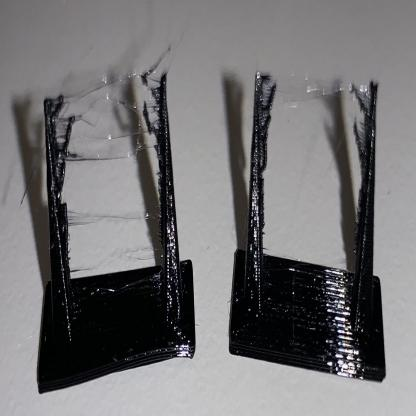fail: (61, 61, 164, 191), (263, 84, 291, 176), (348, 93, 370, 168)
